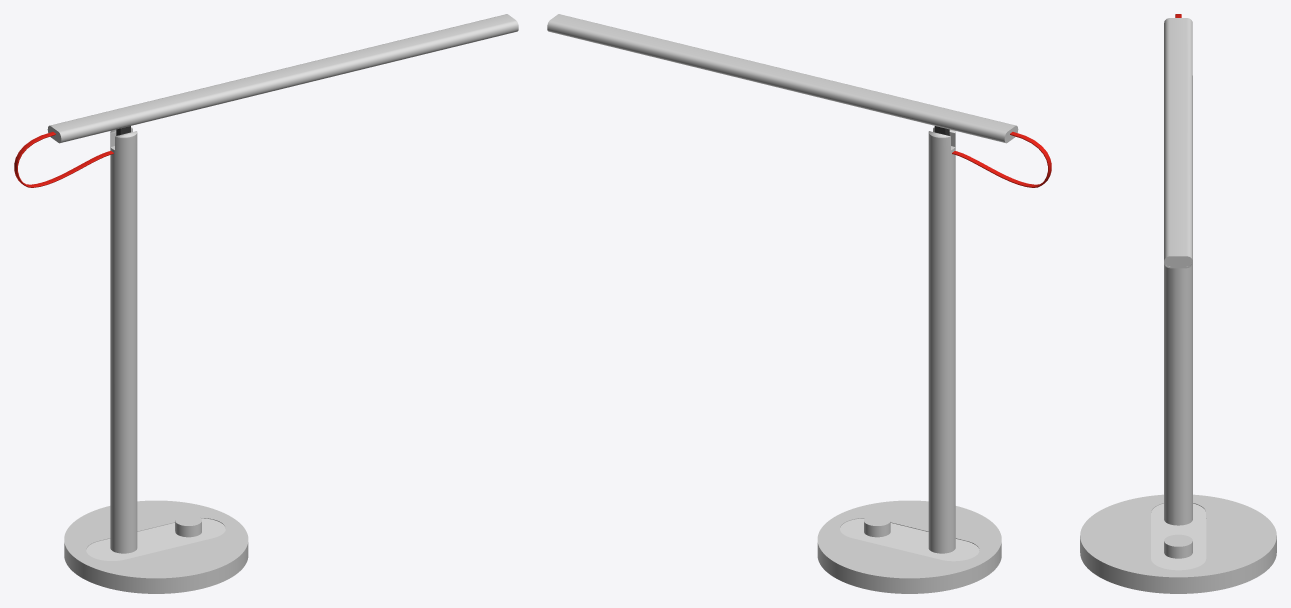
Rendered from lampLF03072.glb.
3 views of the same model, side by side, from view 1: azimuth 30°, elevation 25°; view 2: azimuth 150°, elevation 25°; view 3: azimuth 270°, elevation 25° (orthographic). The views are drawn at different scales.
Parts seen in each view (by area): view 1: lamp-support, lamp-base, lamp-arm, lamp-base2, lamp-lf; view 2: lamp-support, lamp-base, lamp-arm, lamp-base2, lamp-lf; view 3: lamp-base, lamp-support, lamp-arm, lamp-base2, lamp-knob.
Boxes of the visible parts, left/top/right/bottom form: lamp-support: left=110, top=127, right=137, bottom=553; lamp-base: left=64, top=500, right=248, bottom=593; lamp-arm: left=47, top=14, right=518, bottom=143; lamp-base2: left=86, top=518, right=225, bottom=560; lamp-lf: left=14, top=132, right=113, bottom=187; lamp-support: left=928, top=127, right=955, bottom=553; lamp-base: left=817, top=500, right=1001, bottom=593; lamp-arm: left=547, top=14, right=1018, bottom=143; lamp-base2: left=840, top=518, right=979, bottom=561; lamp-lf: left=952, top=132, right=1051, bottom=187; lamp-base: left=1080, top=494, right=1276, bottom=593; lamp-support: left=1164, top=75, right=1192, bottom=525; lamp-arm: left=1164, top=18, right=1192, bottom=268; lamp-base2: left=1151, top=503, right=1206, bottom=570; lamp-knob: left=1164, top=534, right=1192, bottom=558.
Size of the model in its own units: 0.4668 by 0.406 by 0.15.
